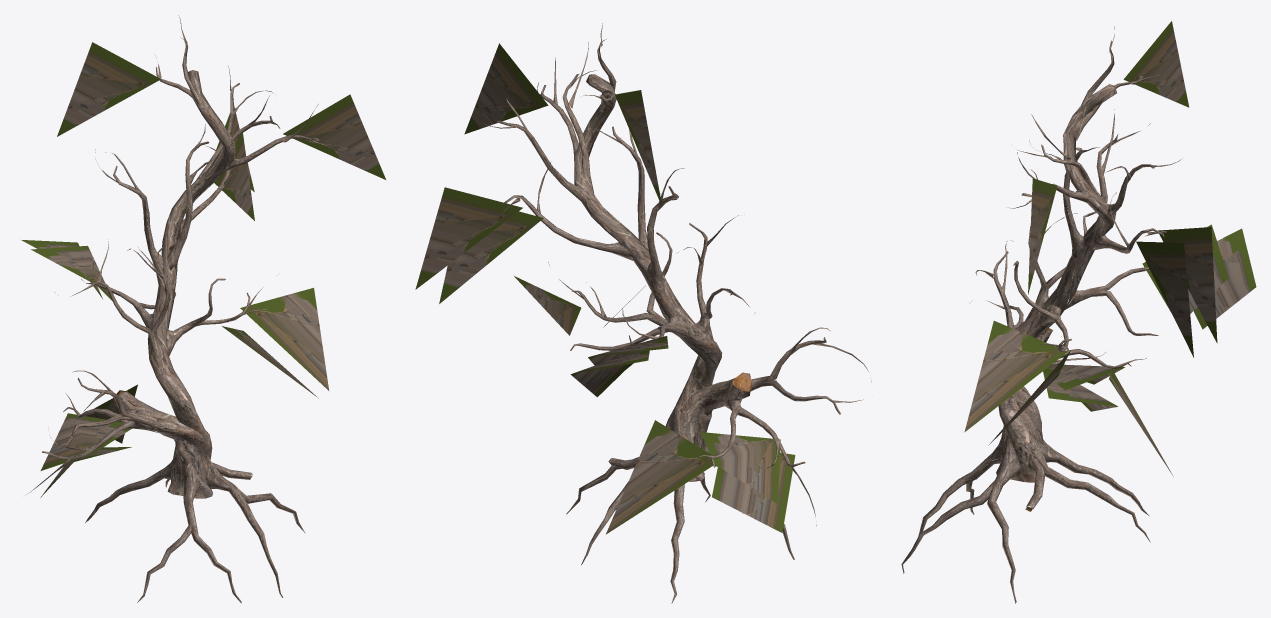
The model's file is arvore_velha.gltf.
The picture shows the model from 3 angles, left to right: view 1: azimuth 30°, elevation 25°; view 2: azimuth 150°, elevation 25°; view 3: azimuth 270°, elevation 25°; orthographic projection. The views are drawn at different scales.
Parts seen in each view (by area): view 1: arvore_velha; view 2: arvore_velha; view 3: arvore_velha.
Part boxes in pixels (x1,y1,x2,y2): arvore_velha: (21,15,385,603); arvore_velha: (415,23,871,603); arvore_velha: (901,21,1256,603).
Size of the model in its own units: 6.63 by 9.37 by 5.42.
3 materials, 3 textured.
